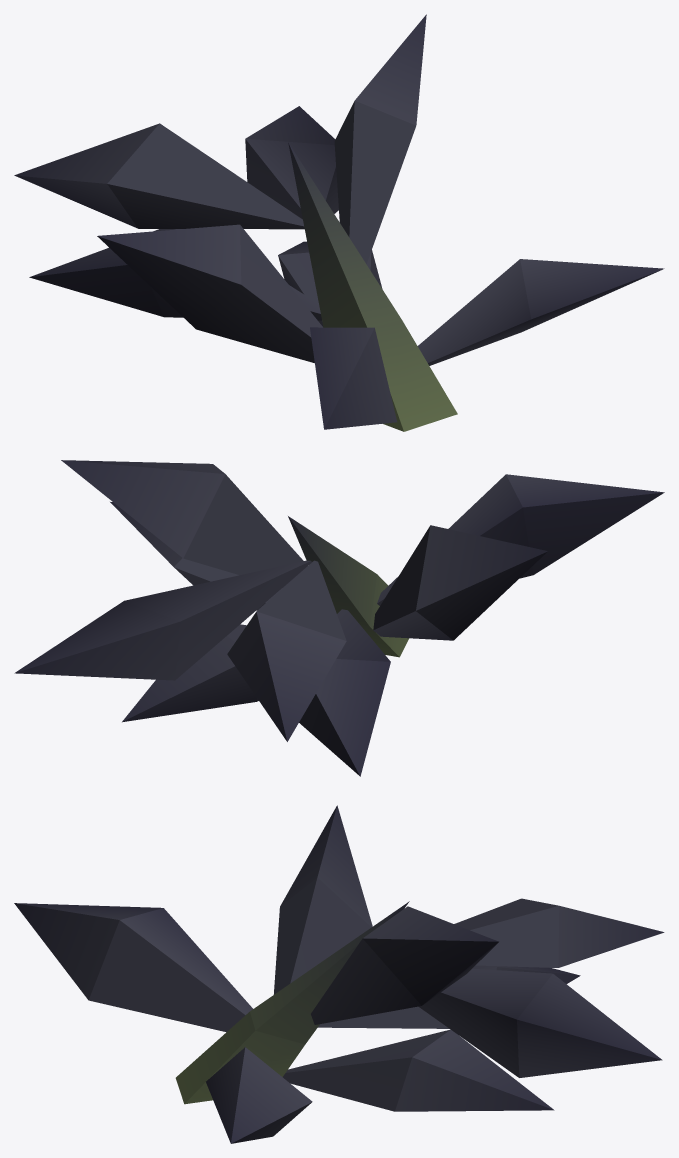
The model's file is Parasite_dead.glb.
The picture shows the model from 3 angles, top to bottom: view 1: azimuth 30°, elevation 25°; view 2: azimuth 150°, elevation 25°; view 3: azimuth 270°, elevation 25°; orthographic projection. The views are drawn at different scales.
Visible parts, largest first — view 1: Parasite_dead; view 2: Parasite_dead; view 3: Parasite_dead.
Boxes of the visible parts, <box> form: Parasite_dead: <box>14,14,664,431</box>; Parasite_dead: <box>14,460,664,776</box>; Parasite_dead: <box>14,805,664,1143</box>.
Size of the model in its own units: 0.8072 by 0.366 by 0.9587.
